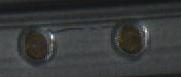joints: (15, 25, 55, 65), (110, 18, 150, 58)
